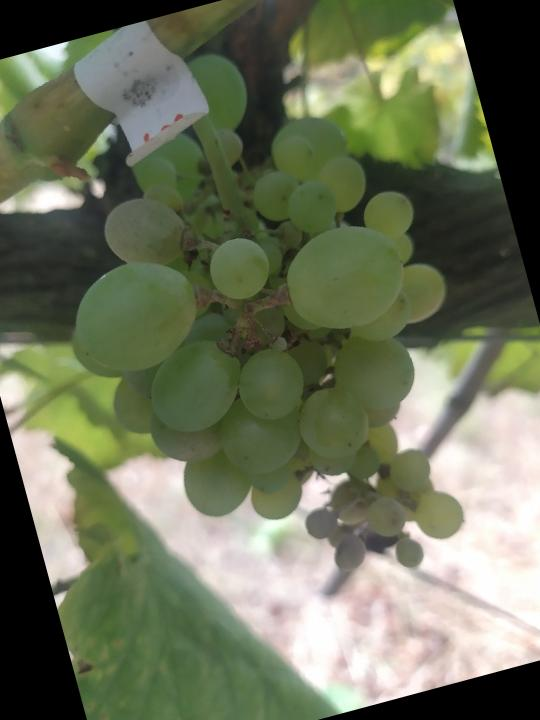grape: (4, 5, 520, 643)
